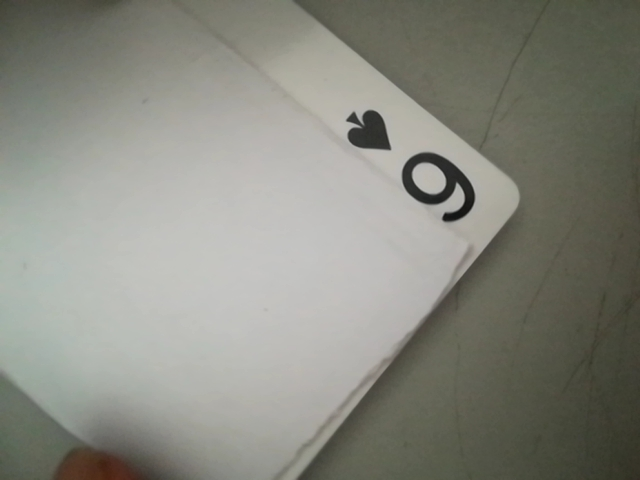ht 6: (333, 99, 492, 237)
